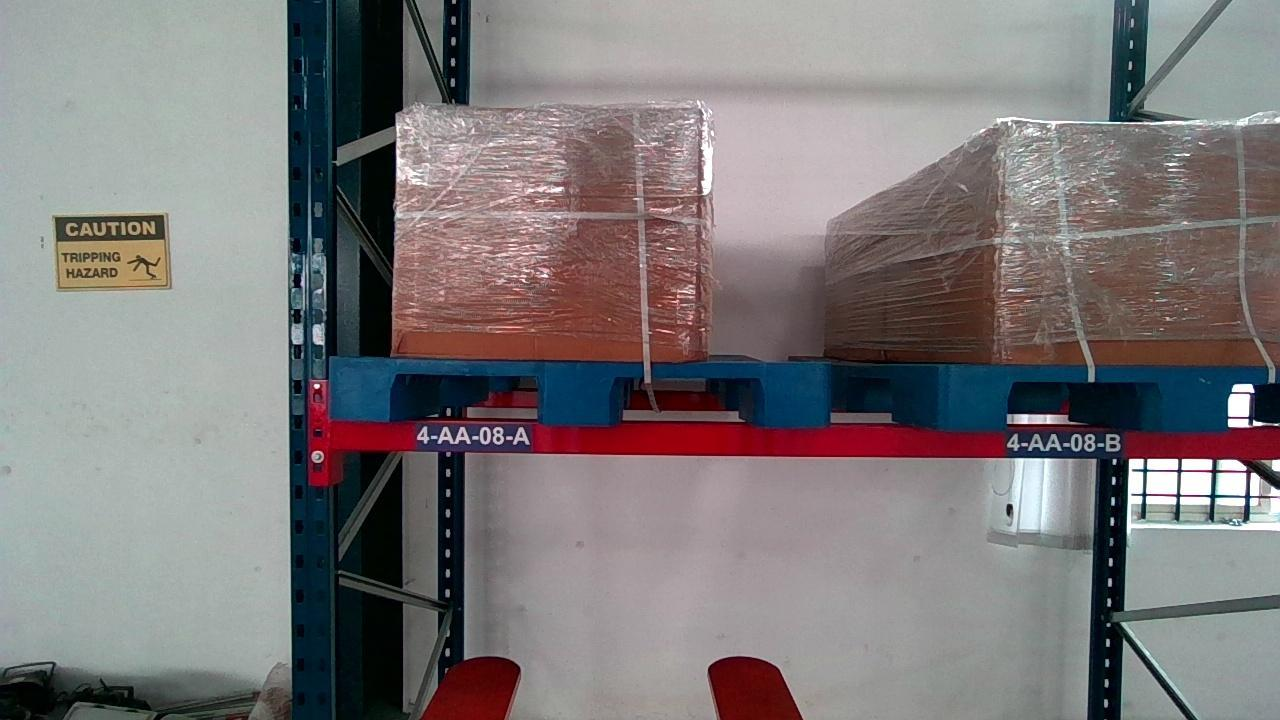h_rack: (311, 422, 1280, 457)
small_pallet: (333, 354, 834, 423), (953, 364, 1280, 422)
